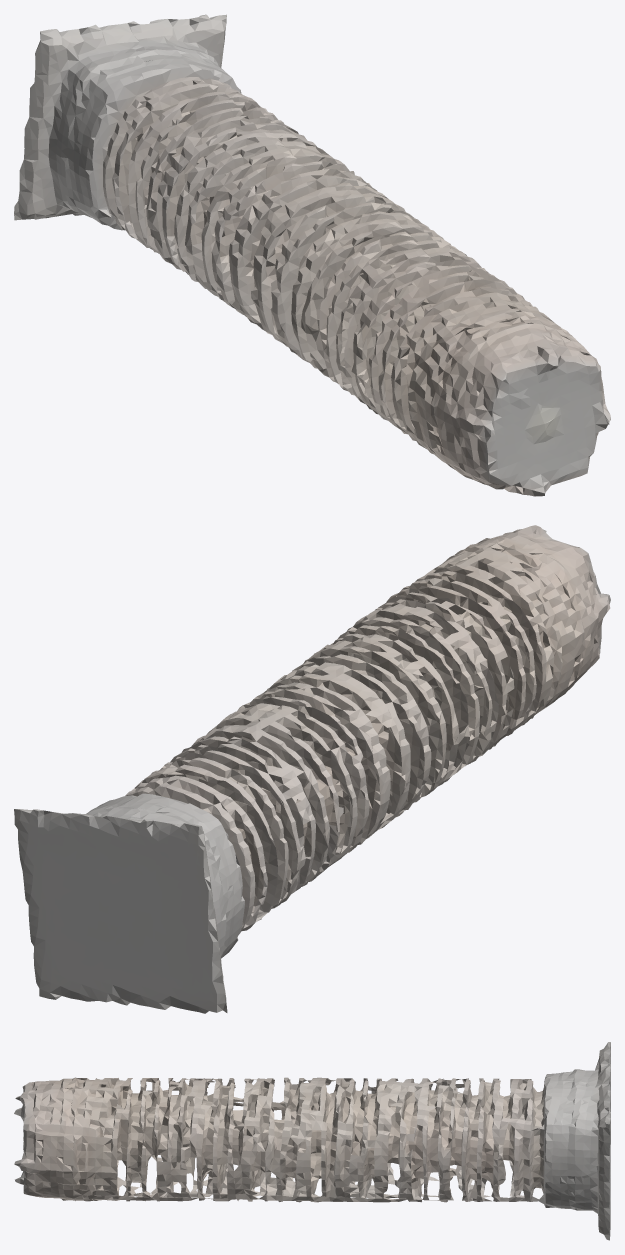
Rendered from entity-signal-light-4.glb.
3 views of the same model, one above another, from view 1: azimuth 30°, elevation 25°; view 2: azimuth 150°, elevation 25°; view 3: azimuth 270°, elevation 25° (orthographic). The views are drawn at different scales.
Parts seen in each view (by area): view 1: geometry_0; view 2: geometry_0; view 3: geometry_0.
Part boxes in pixels (<box>): geometry_0: <box>14,14,610,496</box>; geometry_0: <box>14,525,610,1013</box>; geometry_0: <box>14,1042,610,1240</box>.
Size of the model in its own units: 0.1059 by 0.0995 by 0.3723.
